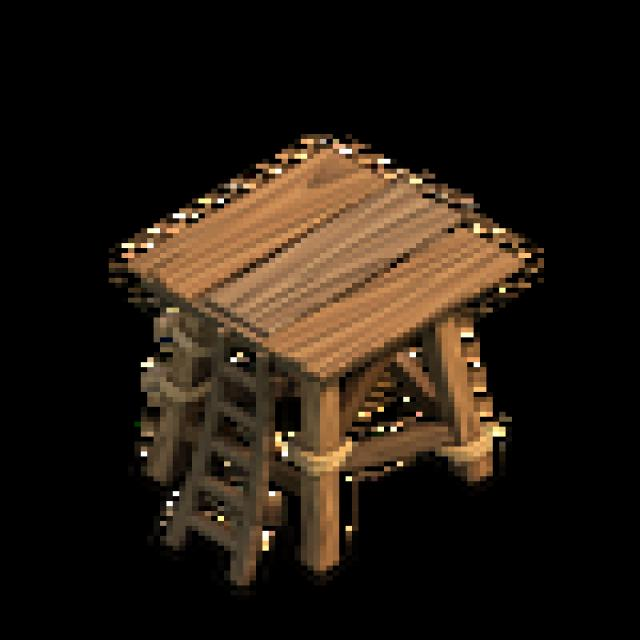archer_tower: (103, 130, 545, 610)
